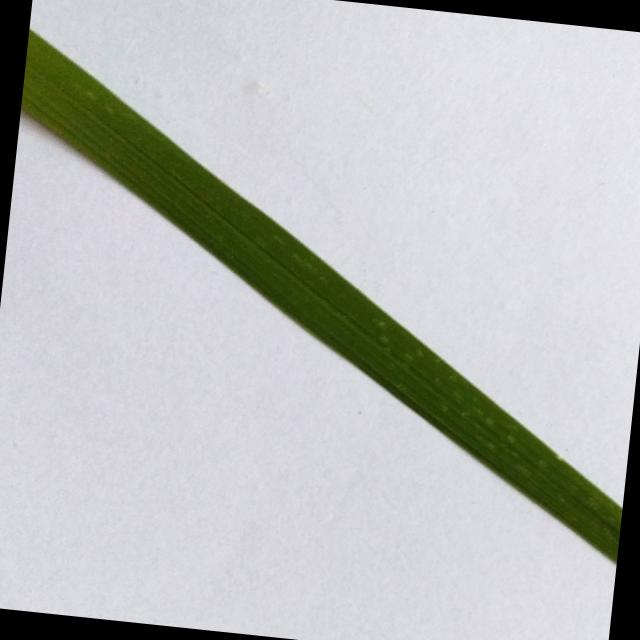Rice_Healthy: (21, 30, 622, 562)
